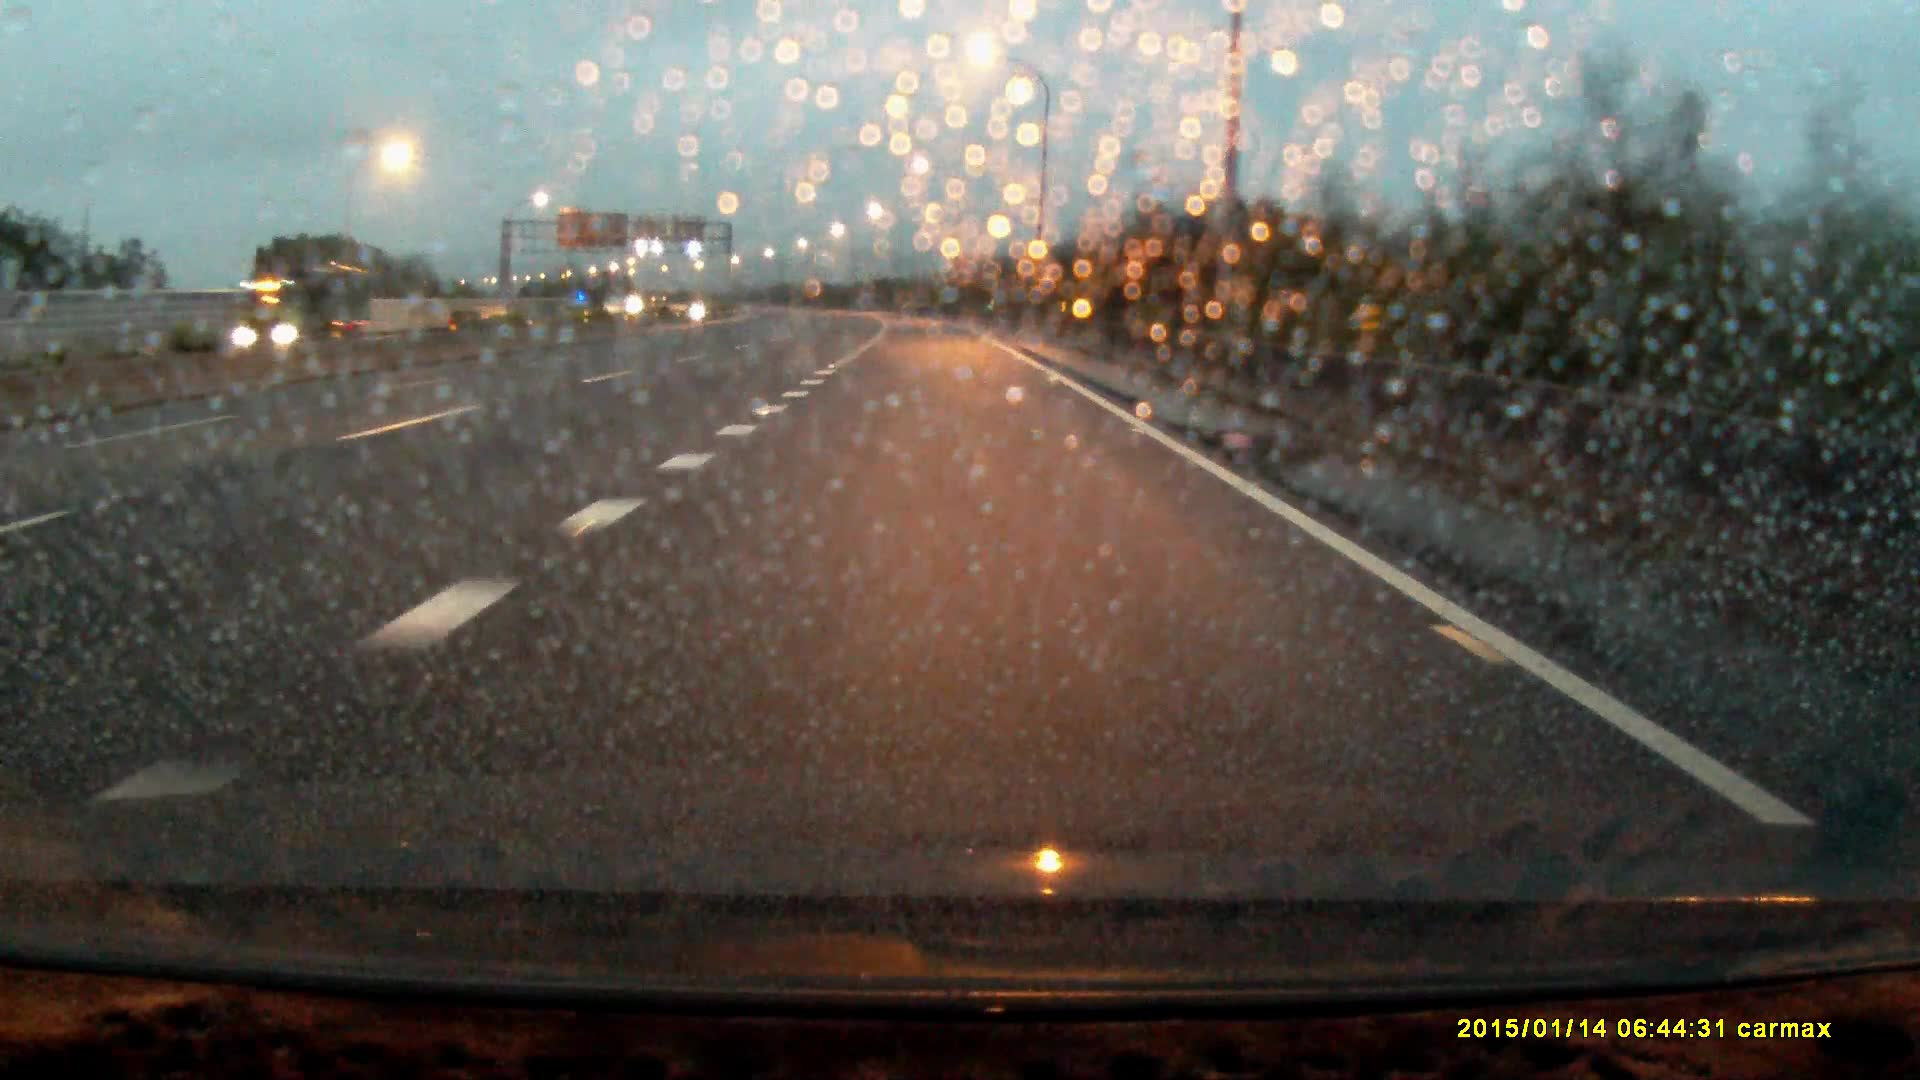vehicle: (232, 276, 375, 345)
